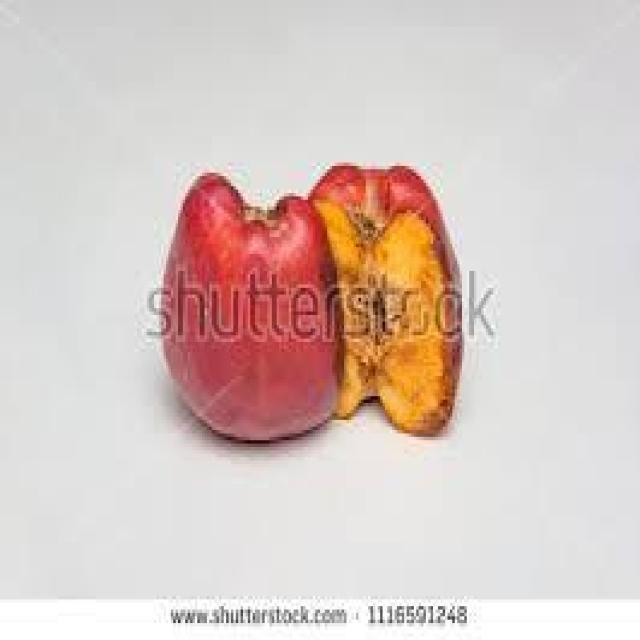maca: (152, 170, 342, 440), (306, 159, 462, 437)
